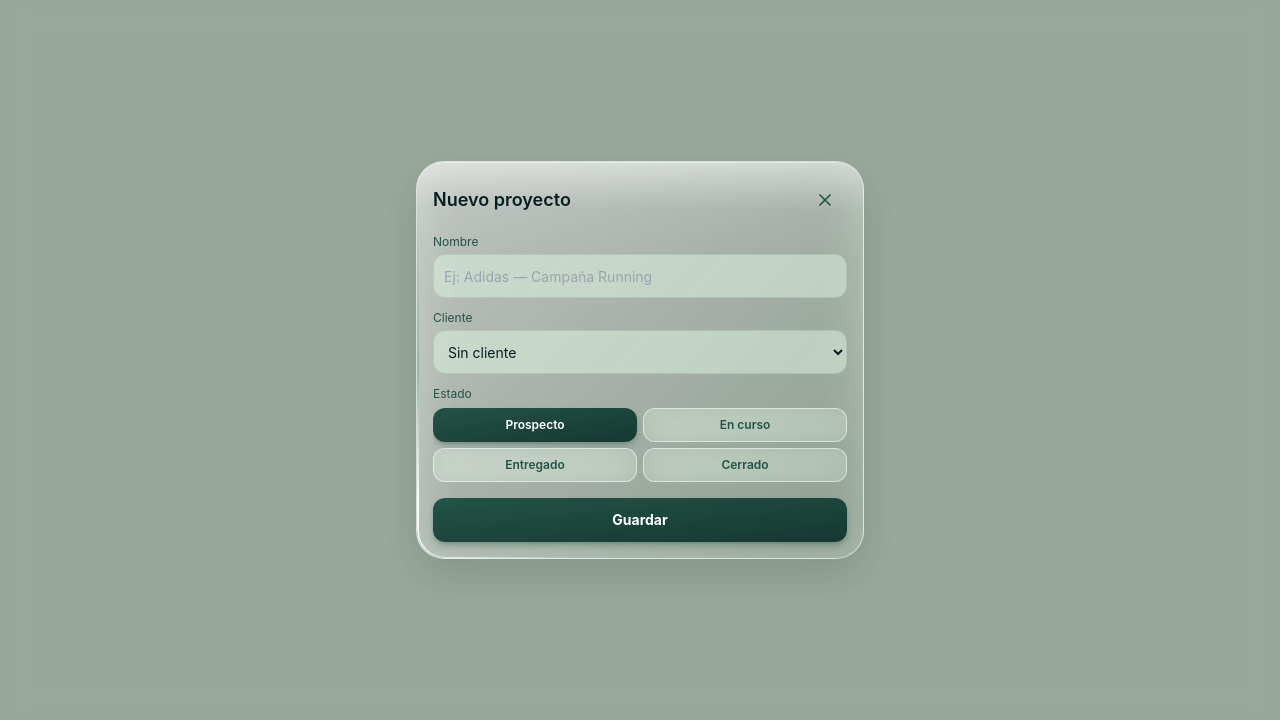
Test: ProjectEditor › shows an error and keeps the form open when saving fails
Type "X" into the field labelled "Nombre" at (640, 276), box x1=433 y1=254 x2=847 y2=298
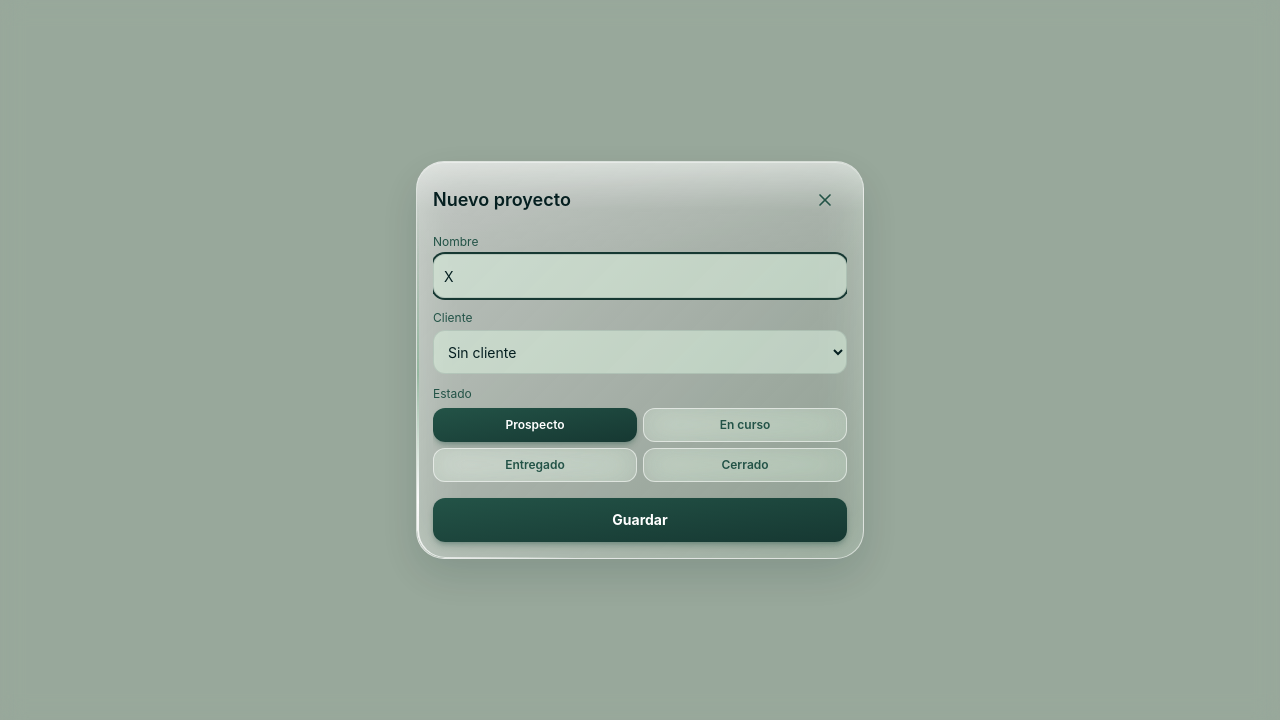
Click the button "Guardar" at (640, 520), box x1=433 y1=498 x2=847 y2=542
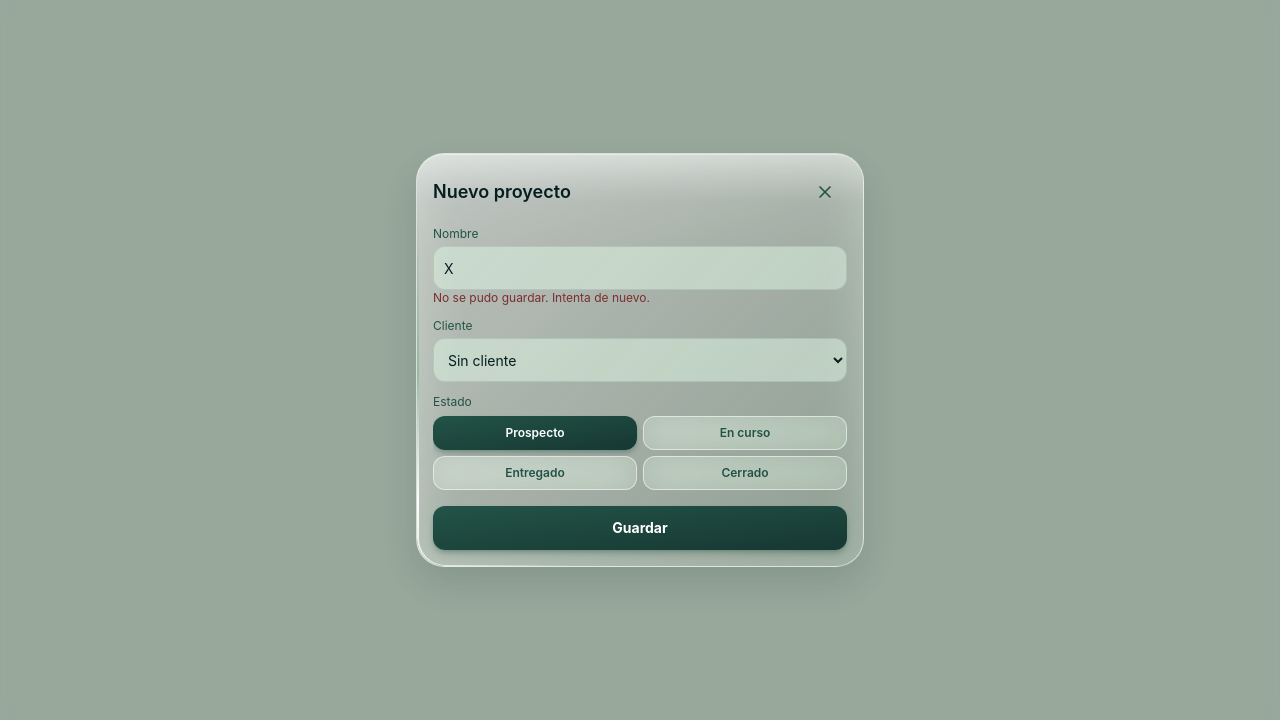
Now the text "No se pudo guardar. Intenta de nuevo." is shown, box x1=433 y1=290 x2=650 y2=305
